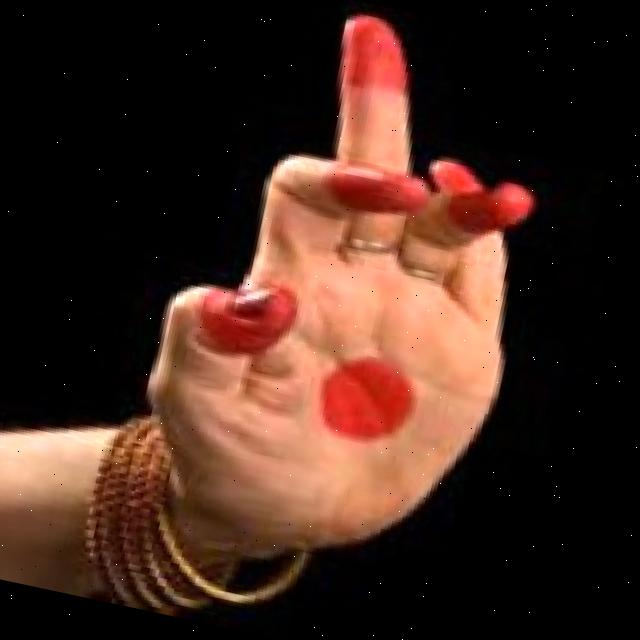Shukatunda: (76, 0, 626, 607)
